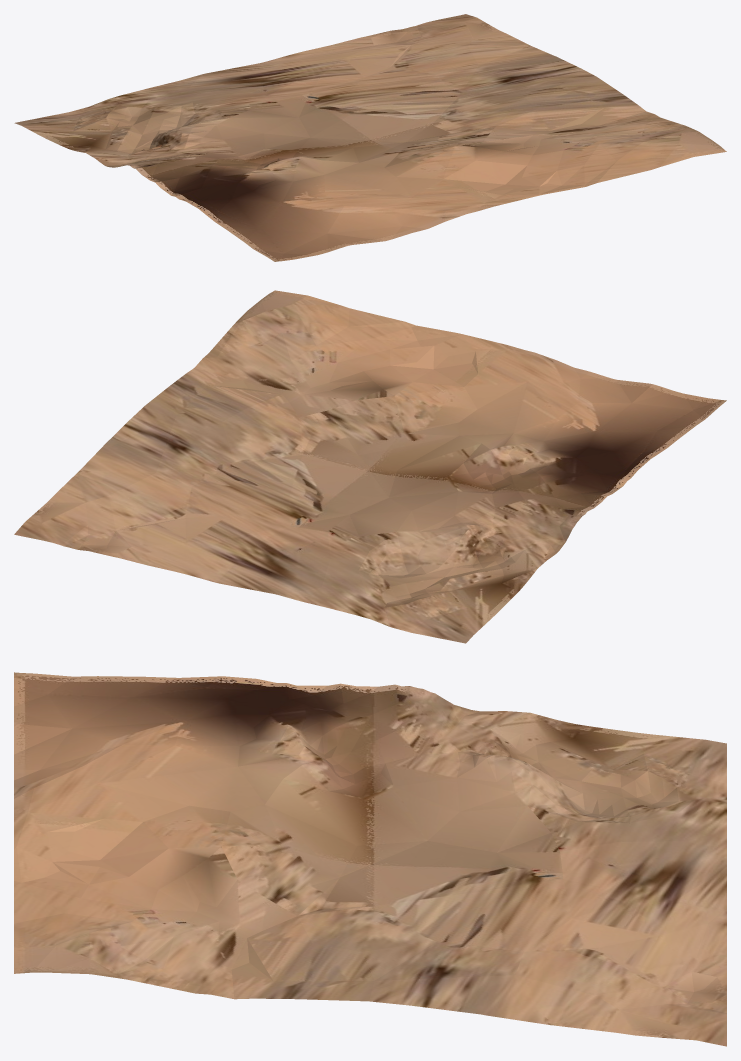
The picture shows the model from 3 angles, top to bottom: view 1: azimuth 30°, elevation 25°; view 2: azimuth 150°, elevation 25°; view 3: azimuth 270°, elevation 25°; orthographic projection. The views are drawn at different scales.
Size of the model in its own units: 2.09 by 0.263 by 2.09.
Materials: 2 (2 with a texture image).
